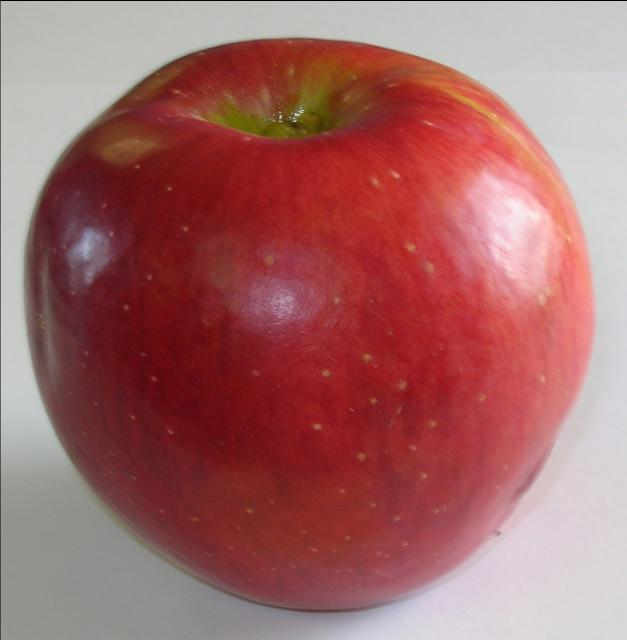Apples: (27, 35, 598, 608)
